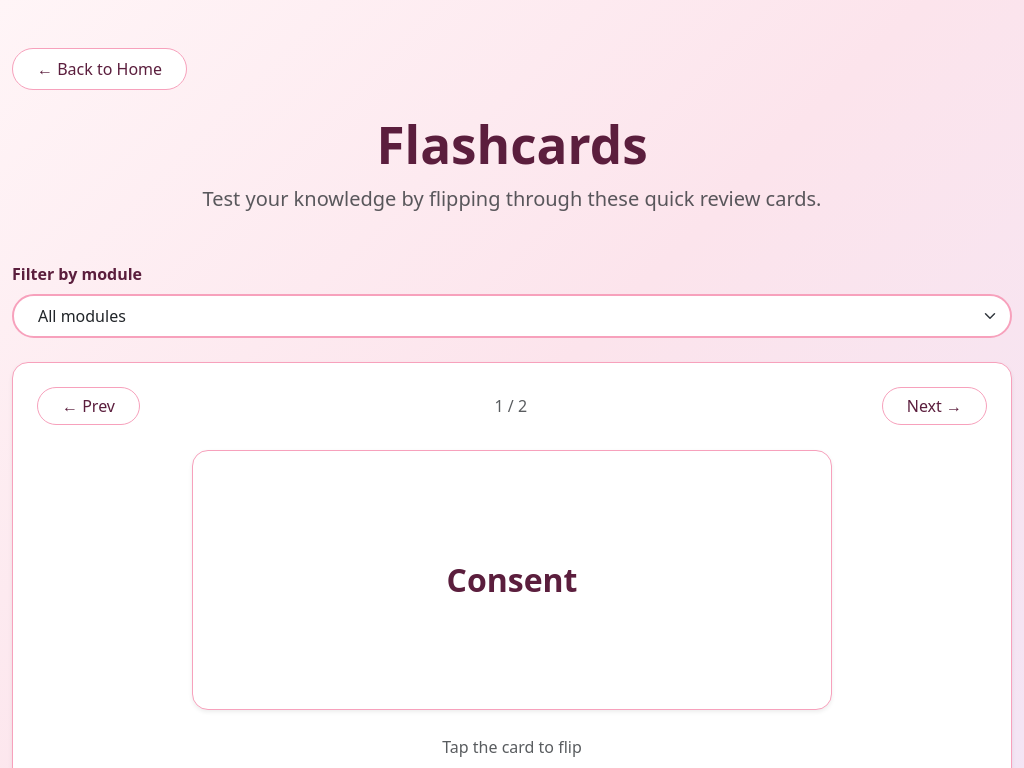
Flashcards page — navigation › advances to card 2 when Next is clicked
Click the button "Next →" at (934, 406), box [882, 386, 987, 424]
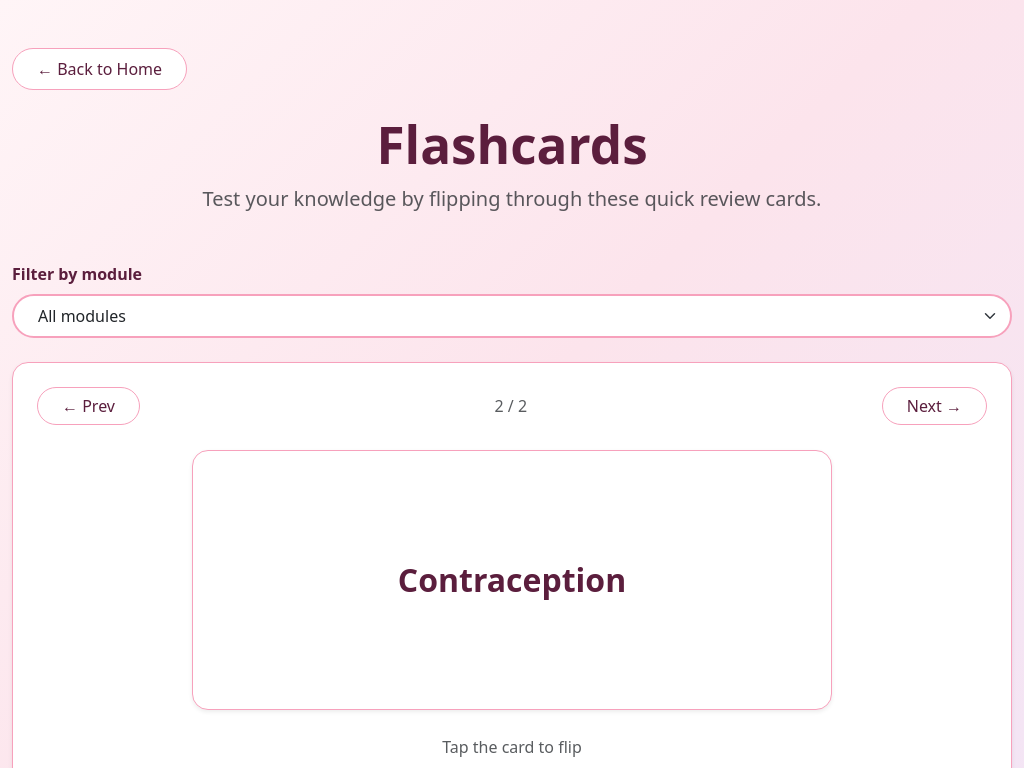
Expected: the text "Contraception" is shown, [398, 558, 626, 600]
